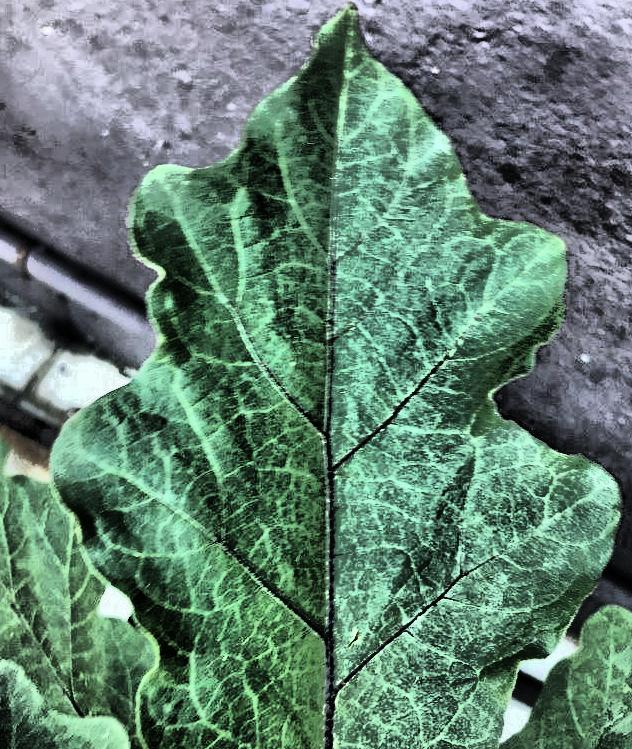HEALTHY: (15, 0, 632, 531)
